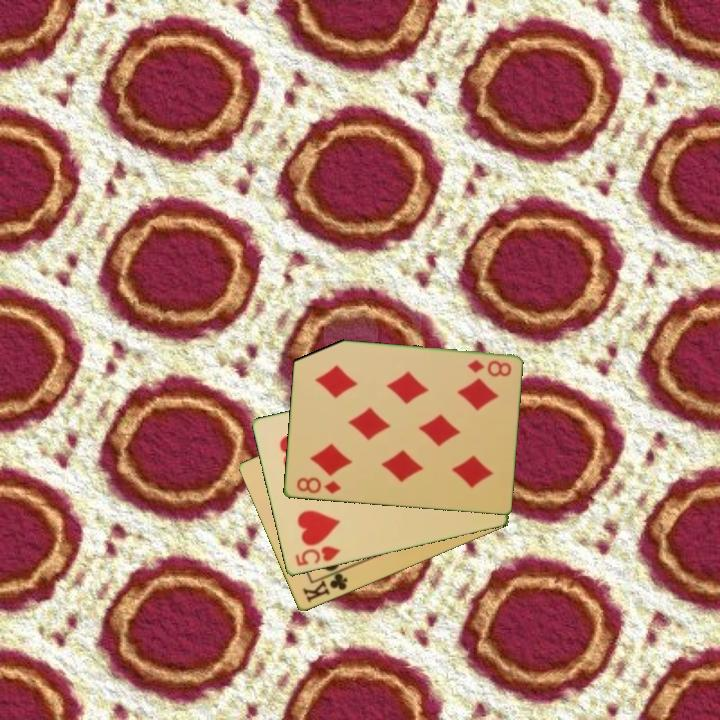5h: (291, 543, 343, 569)
8d: (293, 474, 343, 497), (463, 357, 514, 379)
Kc: (299, 566, 351, 606)
